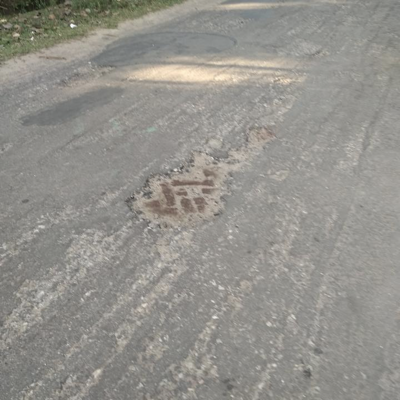pothole: (120, 150, 238, 235), (58, 63, 118, 89), (245, 125, 276, 153)
